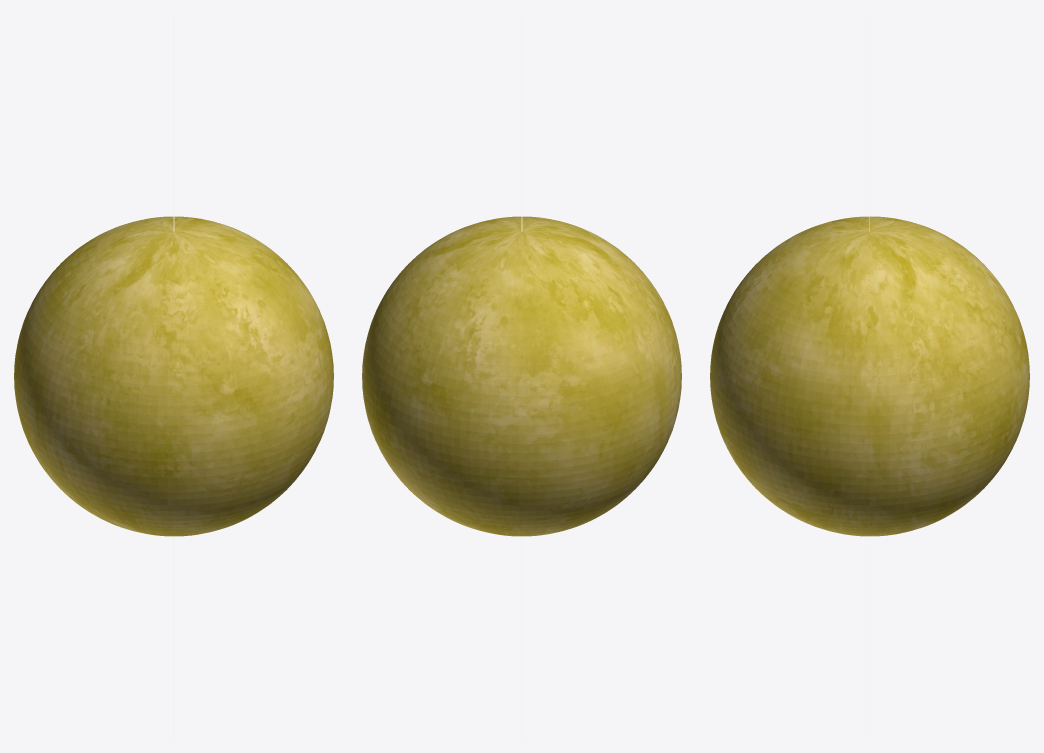
The model's file is buna.glb.
The picture shows the model from 3 angles, left to right: view 1: azimuth 30°, elevation 25°; view 2: azimuth 150°, elevation 25°; view 3: azimuth 270°, elevation 25°; orthographic projection.
Parts seen in each view (by area): view 1: Sphere, Axis_Rod; view 2: Sphere, Axis_Rod; view 3: Sphere.
Part boxes in pixels (bbox=[...]): Sphere: bbox=[14, 216, 333, 536]; Axis_Rod: bbox=[173, 14, 174, 738]; Sphere: bbox=[362, 216, 681, 536]; Axis_Rod: bbox=[521, 14, 522, 738]; Sphere: bbox=[710, 216, 1029, 536].
Bounding box in the file's own units: 2 × 5 × 2.
Materials: 2 (1 with a texture image).
